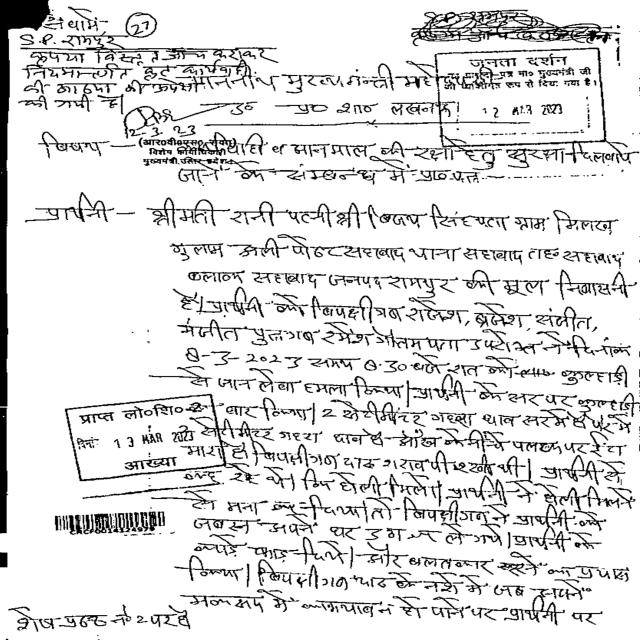antritgovtstamp: (436, 50, 608, 145), (63, 394, 230, 483)
barcode: (52, 512, 170, 538)
